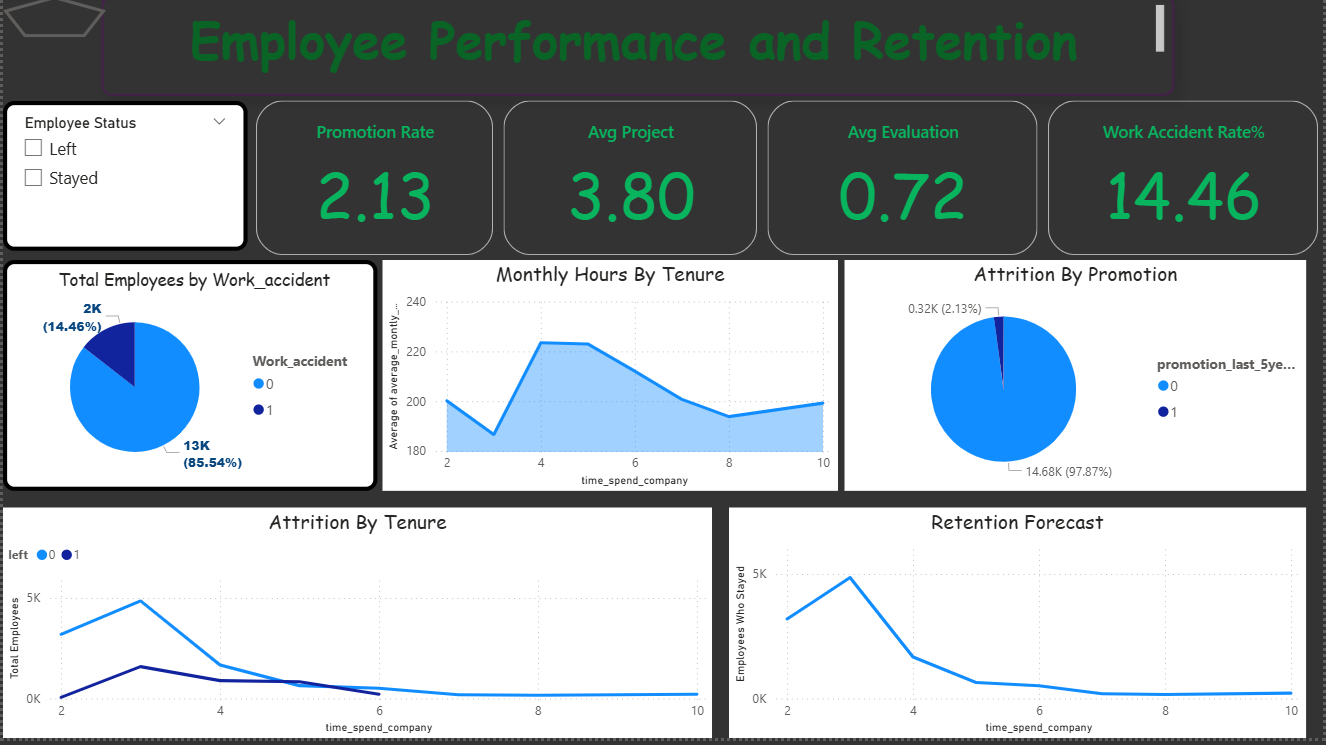

The page's visual inventory and layout, read from the dashboard file:
{"tool":"powerbi","page":{"name":"Drivers","canvas":[1280,720],"ordinal":2},"visuals":[{"type":"textbox","box":[96,0,1040,96],"z":0},{"type":"pieChart","title":"Attrition By Promotion","fields":{"Category":["HR_comma_sep.promotion_last_5years"],"Y":["CountNonNull(HR_comma_sep.left)"]},"box":[816,256,448,224],"z":2000},{"type":"lineChart","title":"Retention Forecast","fields":{"Y":["HR_comma_sep.Employees Who Stayed"],"Category":["HR_comma_sep.time_spend_company"]},"box":[704,496,560,224],"z":3000},{"type":"slicer","fields":{"Values":["HR_comma_sep.Employee Status"]},"box":[0,102,237,145],"z":3500},{"type":"cardVisual","fields":{"Data":["HR_comma_sep.Promotion Rate"]},"box":[240,96,240,160],"z":4000},{"type":"areaChart","title":"Monthly Hours By Tenure","fields":{"Category":["HR_comma_sep.time_spend_company"],"Y":["Avg(HR_comma_sep.average_montly_hours)"]},"box":[368,256,442,224],"z":5000},{"type":"cardVisual","fields":{"Data":["HR_comma_sep.Avg Evaluation"]},"box":[736,96,272,160],"z":6000},{"type":"cardVisual","fields":{"Data":["HR_comma_sep.Avg Project"]},"box":[480,96,256,160],"z":7000},{"type":"actionButton","box":[0,0,100,40],"z":10000},{"type":"lineChart","title":"Attrition By Tenure","fields":{"Category":["HR_comma_sep.time_spend_company"],"Y":["HR_comma_sep.Total Employees"],"Series":["HR_comma_sep.left"]},"box":[0,496,688,224],"z":11000},{"type":"pieChart","fields":{"Category":["HR_comma_sep.Work_accident"],"Y":["HR_comma_sep.Total Employees"]},"box":[0,256,363,224],"z":12000},{"type":"cardVisual","fields":{"Data":["HR_comma_sep.Work Accident Rate%"]},"box":[1008,96,272,160],"z":13000}]}

Visuals, with their boxes in screenshot pixels (x1, y1, x2, y2), scaled from the page's 1280x720 canvas onto the 1326x745 screenshot:
textbox: region(99, 0, 1177, 99)
"Attrition By Promotion" pieChart: region(845, 265, 1309, 497)
"Retention Forecast" lineChart: region(729, 513, 1309, 744)
slicer - HR_comma_sep.Employee Status: region(0, 106, 246, 256)
cardVisual - HR_comma_sep.Promotion Rate: region(249, 99, 497, 265)
"Monthly Hours By Tenure" areaChart: region(381, 265, 839, 497)
cardVisual - HR_comma_sep.Avg Evaluation: region(762, 99, 1044, 265)
cardVisual - HR_comma_sep.Avg Project: region(497, 99, 762, 265)
actionButton: region(0, 0, 104, 41)
"Attrition By Tenure" lineChart: region(0, 513, 713, 744)
pieChart - HR_comma_sep.Work_accident x HR_comma_sep.Total Employees: region(0, 265, 376, 497)
cardVisual - HR_comma_sep.Work Accident Rate%: region(1044, 99, 1325, 265)
